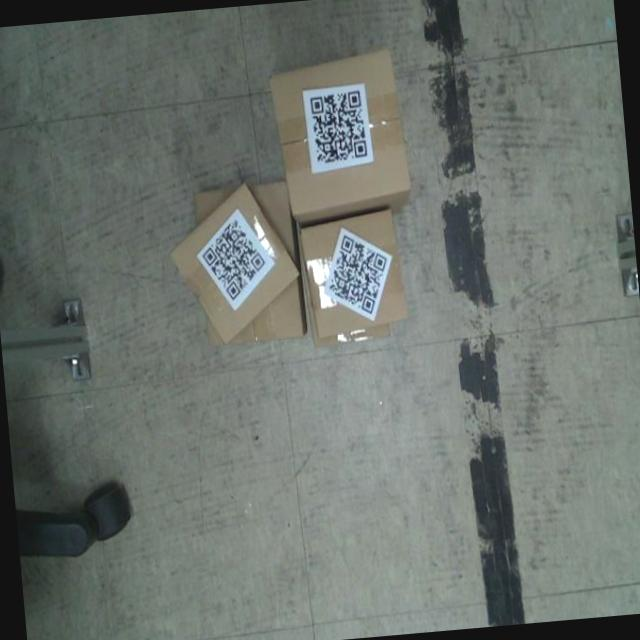box: (161, 172, 309, 352), (266, 45, 414, 223), (294, 206, 410, 342)
